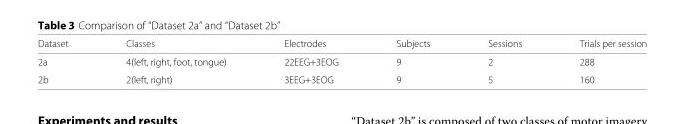table: (36, 37, 646, 84)
table column: (96, 37, 254, 84), (254, 37, 366, 84), (549, 37, 646, 84), (366, 37, 458, 84), (458, 37, 549, 84), (36, 37, 96, 84)
table column header: (36, 37, 646, 52)
table row: (36, 52, 646, 70), (36, 37, 646, 52), (36, 70, 646, 84)
